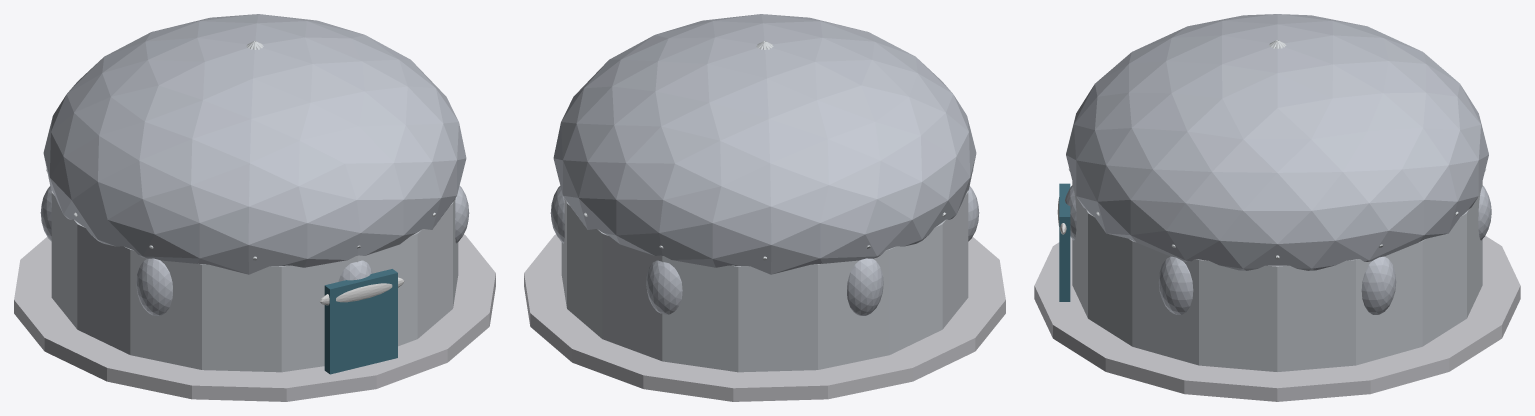
The model's file is louvre-canopy.glb.
3 renders of one model, left to right at view 1: azimuth 30°, elevation 25°; view 2: azimuth 150°, elevation 25°; view 3: azimuth 270°, elevation 25°, orthographic.
Parts seen in each view (by area): view 1: DomeShell_3, Building_2, Base_1, Entrance_94, Pavilion_20, PortalRing_95, Pavilion_8, Pavilion_5, Pavilion_17; view 2: DomeShell_3, Building_2, Base_1, Pavilion_17, Pavilion_14, Pavilion_11, Pavilion_20; view 3: DomeShell_3, Building_2, Base_1, Pavilion_8, Pavilion_11, Entrance_94, Pavilion_14.
Boxes of the visible parts, bbox=[...] form: DomeShell_3: bbox=[43, 14, 466, 274]; Building_2: bbox=[51, 191, 458, 372]; Base_1: bbox=[14, 234, 495, 401]; Entrance_94: bbox=[324, 269, 397, 374]; Pavilion_20: bbox=[136, 258, 172, 315]; PortalRing_95: bbox=[319, 277, 404, 305]; Pavilion_8: bbox=[455, 186, 469, 243]; Pavilion_5: bbox=[338, 260, 372, 281]; Pavilion_17: bbox=[40, 186, 51, 241]; DomeShell_3: bbox=[553, 14, 976, 274]; Building_2: bbox=[561, 191, 968, 372]; Base_1: bbox=[524, 234, 1005, 401]; Pavilion_17: bbox=[847, 258, 883, 315]; Pavilion_14: bbox=[646, 260, 682, 314]; Pavilion_11: bbox=[550, 186, 564, 243]; Pavilion_20: bbox=[968, 186, 979, 241]; DomeShell_3: bbox=[1066, 14, 1488, 270]; Building_2: bbox=[1072, 181, 1482, 371]; Base_1: bbox=[1034, 236, 1520, 401]; Pavilion_8: bbox=[1158, 256, 1193, 314]; Pavilion_11: bbox=[1361, 256, 1396, 314]; Entrance_94: bbox=[1059, 183, 1070, 301]; Pavilion_14: bbox=[1478, 185, 1491, 240].
Size of the model in its own units: 9.6 by 5.64 by 9.6.
